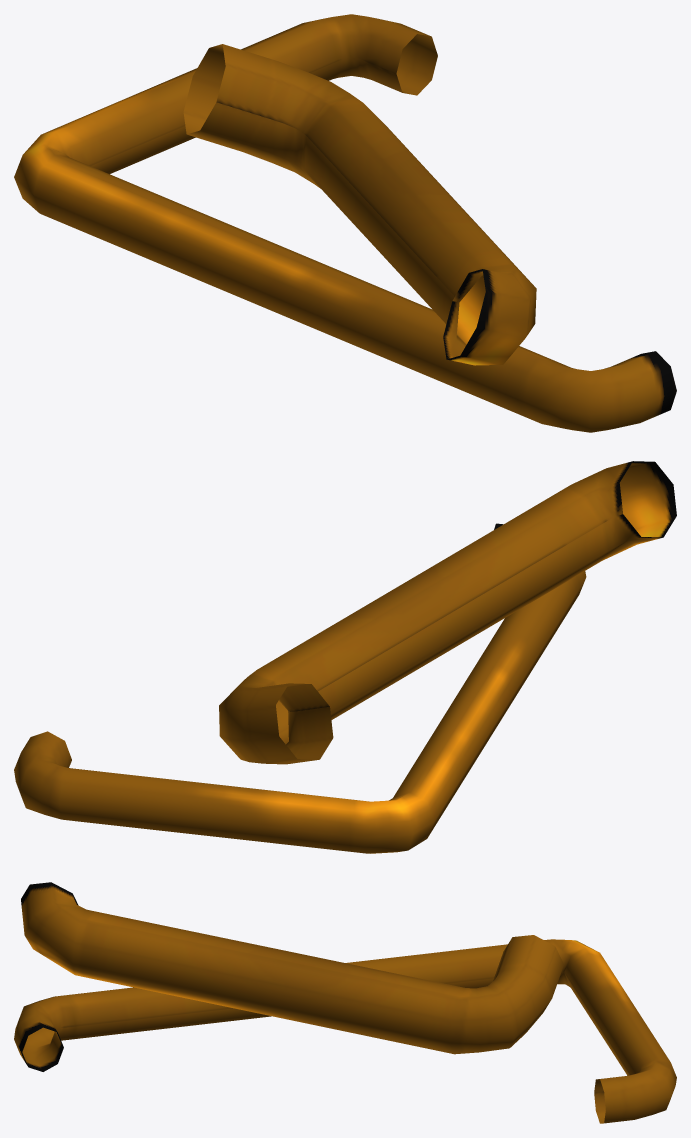
Rendered from GoundBurned_UrbanAccent.fbx.
3 views of the same model, one above another, from view 1: azimuth 30°, elevation 25°; view 2: azimuth 150°, elevation 25°; view 3: azimuth 270°, elevation 25° (orthographic). The views are drawn at different scales.
Visible parts, largest first — view 1: polySurface2; view 2: polySurface2; view 3: polySurface2.
Part boxes in pixels (x1,y1,x2,y2): polySurface2: [14, 14, 676, 432]; polySurface2: [14, 461, 676, 853]; polySurface2: [14, 882, 676, 1123].
Bounding box in the file's own units: 57.59 × 22.32 × 103.
